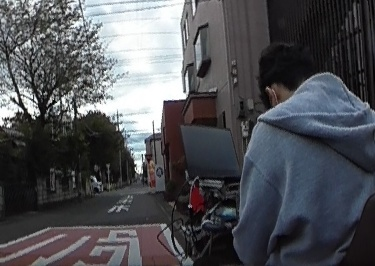person: (245, 39, 375, 266)
